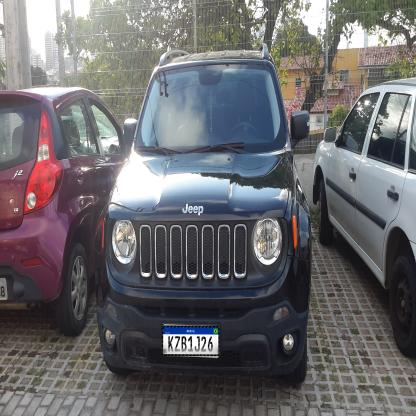PlacaM: (162, 326, 219, 356)
